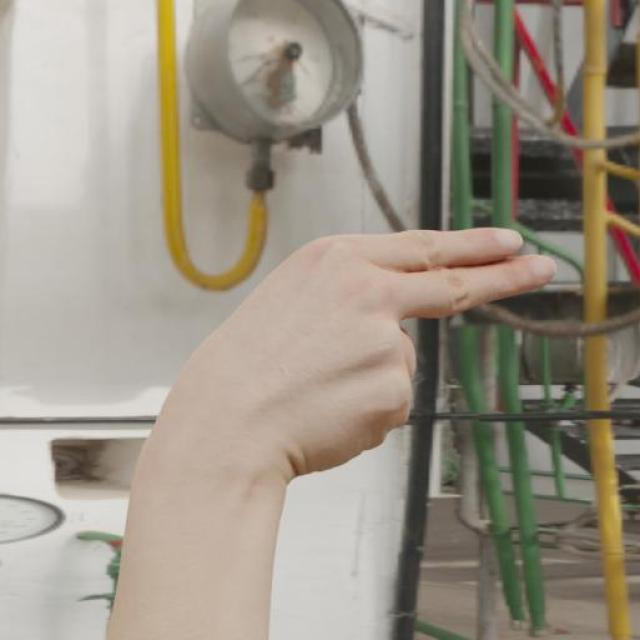H: (135, 223, 556, 487)
